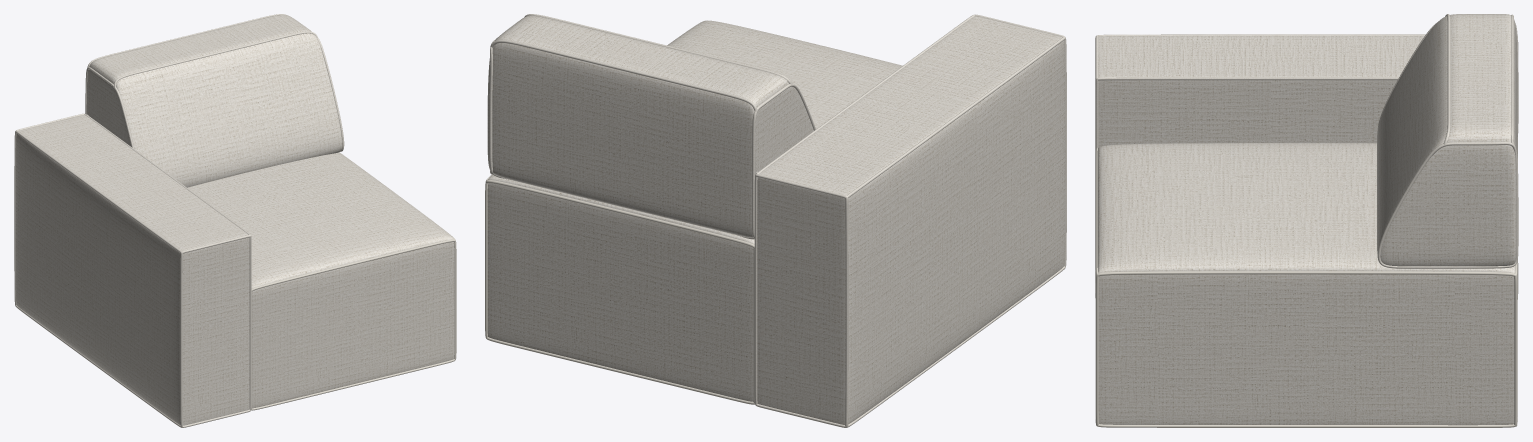
Rendered from right_1_seater_arm_105_alpine_ivory.glb.
The picture shows the model from 3 angles, left to right: view 1: azimuth 30°, elevation 25°; view 2: azimuth 150°, elevation 25°; view 3: azimuth 270°, elevation 25°; orthographic projection. The views are drawn at different scales.
Visible parts, largest first — view 1: Box088, Box093, Box097, Shape048, Shape043, Shape039; view 2: Box088, Box093, Box097, Shape048, Shape039, Shape043; view 3: Box093, Box088, Box097, Shape043, Shape039, Shape048.
Part boxes in pixels (x1,y1,x2,y2): Box088: [15, 115, 249, 425]; Box093: [187, 152, 454, 408]; Box097: [86, 14, 342, 187]; Shape048: [14, 113, 251, 427]; Shape043: [251, 232, 456, 410]; Shape039: [85, 14, 344, 151]; Box088: [757, 16, 1065, 424]; Box093: [487, 20, 902, 401]; Box097: [487, 15, 813, 237]; Shape048: [754, 14, 1066, 427]; Shape039: [489, 14, 815, 239]; Shape043: [485, 174, 754, 404]; Box093: [1096, 143, 1515, 425]; Box088: [1098, 36, 1424, 146]; Box097: [1377, 14, 1517, 266]; Shape043: [1095, 147, 1517, 427]; Shape039: [1377, 14, 1518, 268]; Shape048: [1095, 34, 1518, 299].
Bounding box in the file's own units: 1.03 × 0.8369 × 1.07.
2 materials, 2 textured.
